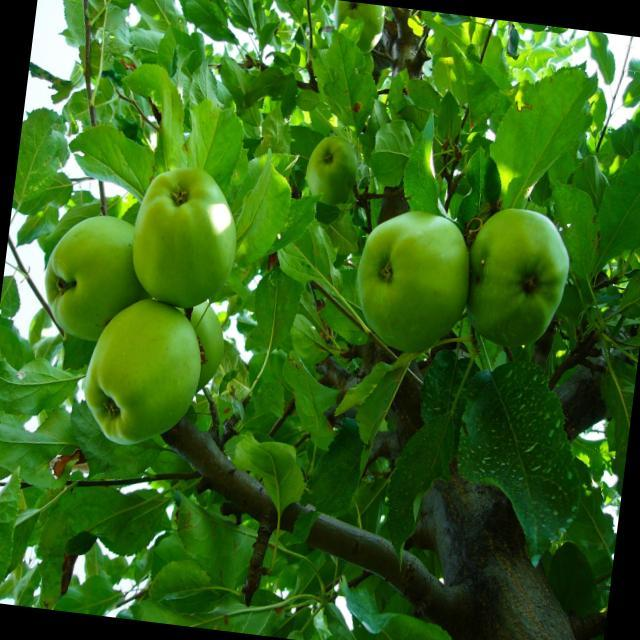APPLE: (76, 287, 210, 446), (349, 200, 476, 362), (129, 152, 250, 302), (471, 194, 579, 350), (38, 209, 138, 320)
